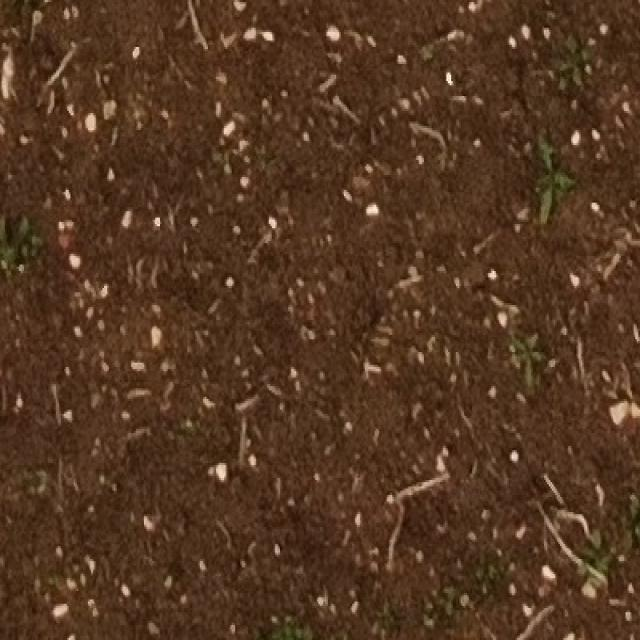cirse: (533, 134, 587, 236), (506, 327, 548, 389)
